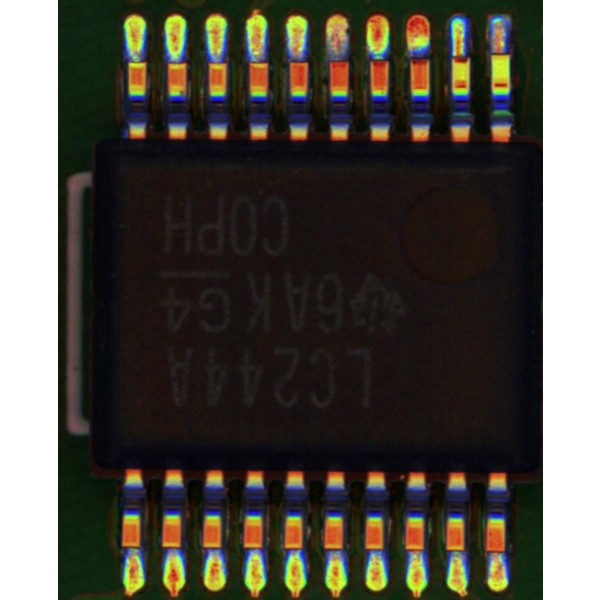Bad_podu: (493, 43, 507, 69), (454, 44, 464, 67)
